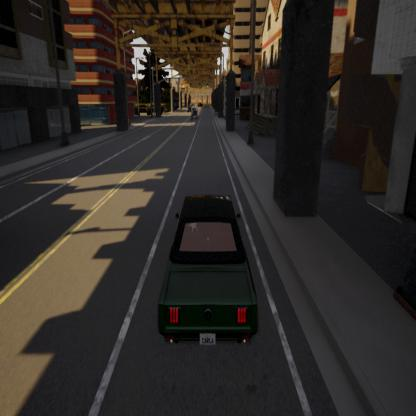Cars: (153, 184, 265, 348), (191, 105, 198, 119), (188, 104, 192, 113)
